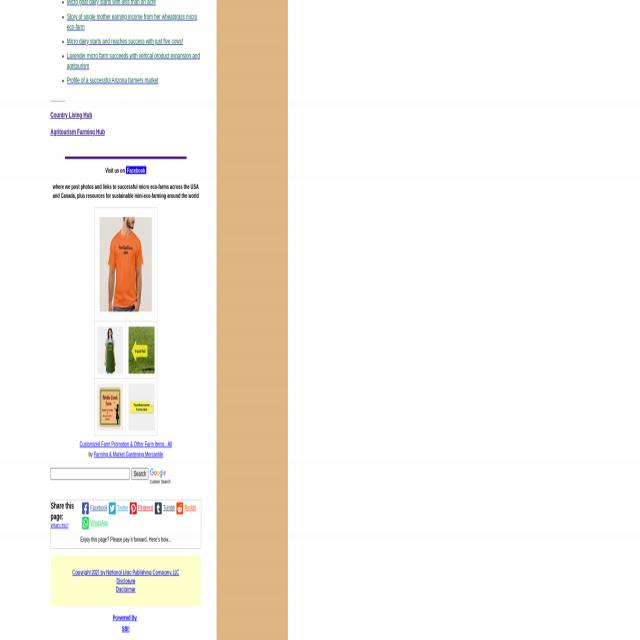button: (94, 207, 158, 437), (112, 613, 140, 622), (131, 468, 149, 479), (150, 468, 167, 479), (82, 501, 90, 515), (108, 501, 116, 515), (129, 501, 137, 515), (154, 501, 162, 515), (176, 501, 184, 515), (82, 516, 90, 530)
field: (50, 468, 130, 479)
